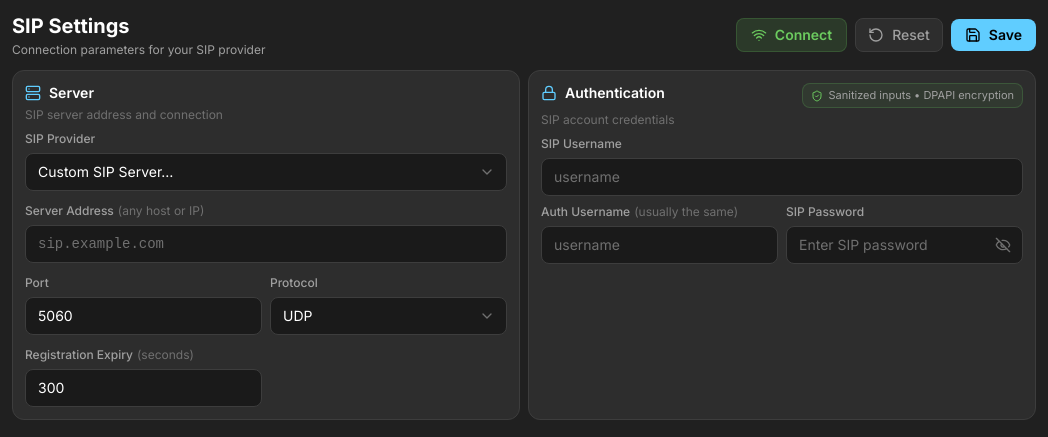
Test: SipSettings › auto-swaps port to 5061 when switching to TLS
This screenshot has width=1048, height=437.
Select "TLS" in the dropdown below "Protocol": [388, 316] box [270,297,507,335]
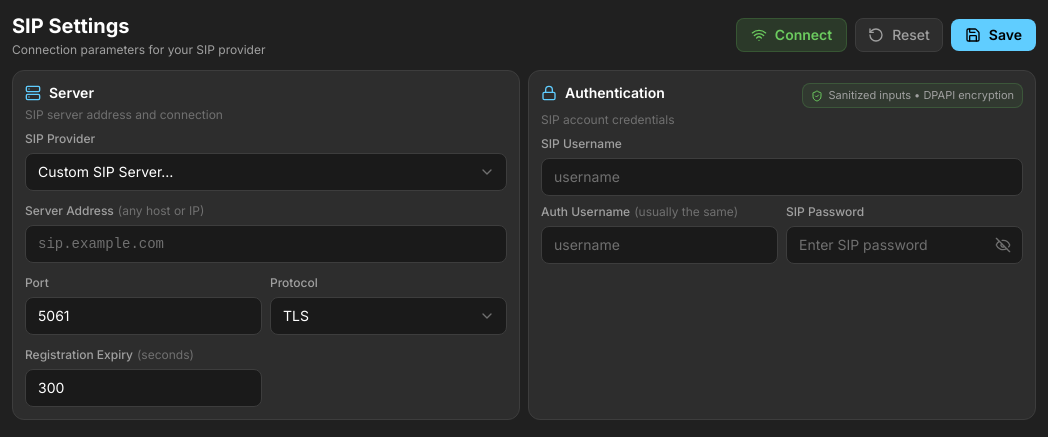
Expected: the number field showing "5061" below "Port" is shown, [25,297,262,335]
